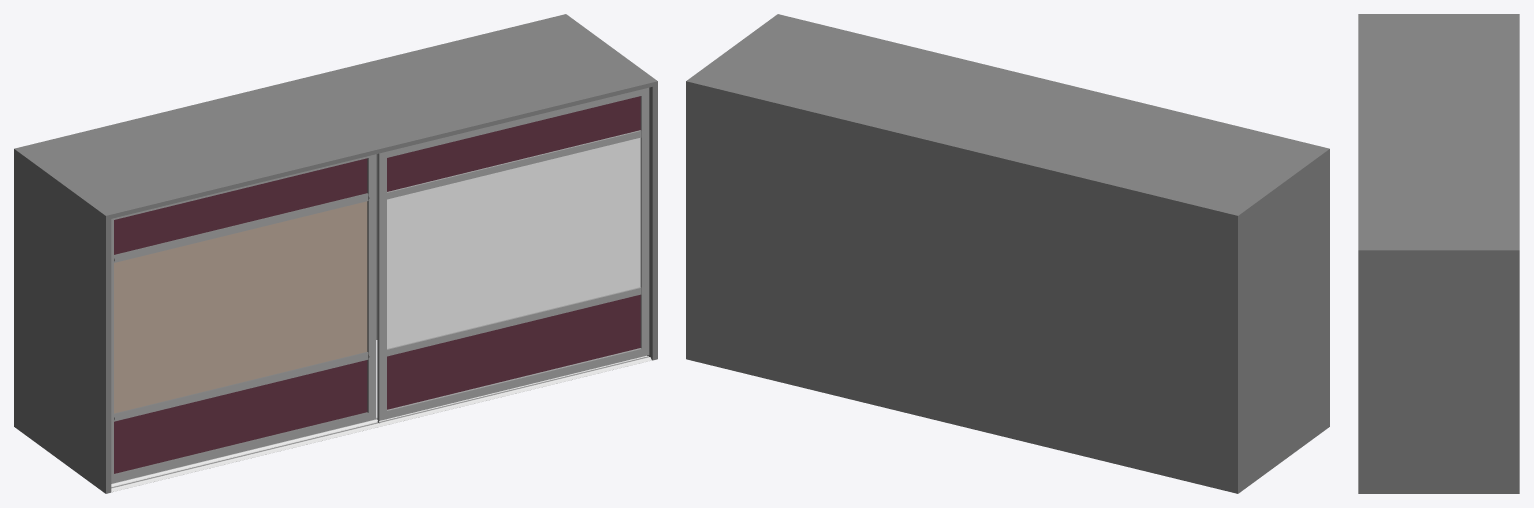
The model's file is armoire_chambre.fbx.
3 renders of one model, left to right at view 1: azimuth 30°, elevation 25°; view 2: azimuth 150°, elevation 25°; view 3: azimuth 270°, elevation 25°, orthographic. The views are drawn at different scales.
Visible parts, largest first — view 1: Cube.016, Plane.085, Plane.086, Plane.083, Plane.084; view 2: Cube.016; view 3: Cube.016.
Part boxes in pixels (bbox=[...]): Cube.016: bbox=[14, 14, 657, 493]; Plane.085: bbox=[377, 87, 649, 423]; Plane.086: bbox=[111, 154, 376, 483]; Plane.083: bbox=[111, 356, 651, 492]; Plane.084: bbox=[111, 355, 646, 486]; Cube.016: bbox=[686, 14, 1329, 493]; Cube.016: bbox=[1358, 14, 1519, 493].
Bounding box in the file's own units: 1447 × 698 × 417.
